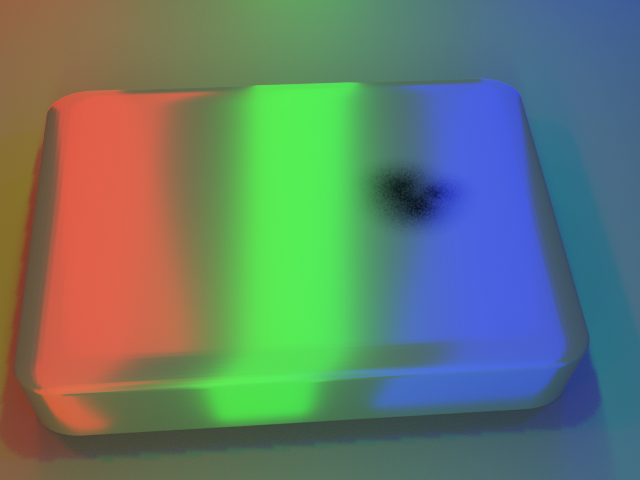stain: (320, 138, 516, 249)
